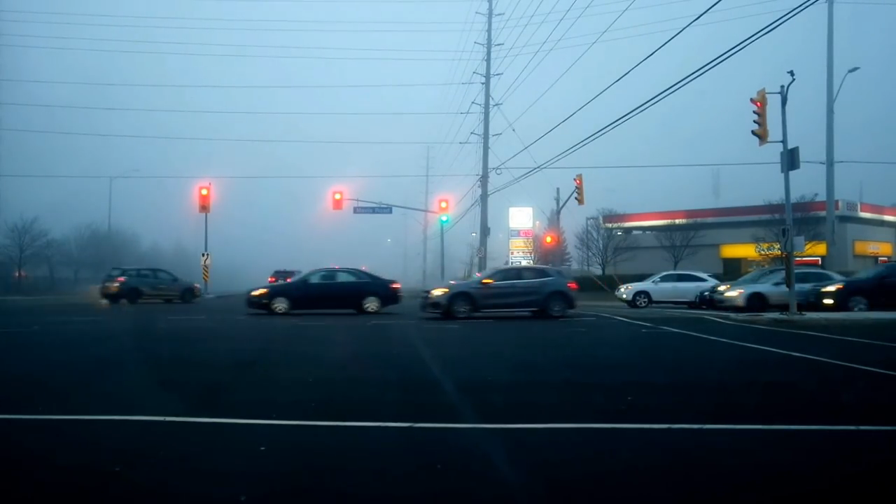car: (418, 263, 581, 322), (242, 264, 406, 315), (710, 264, 854, 313), (716, 270, 868, 315), (615, 268, 735, 309), (812, 263, 896, 318), (98, 264, 203, 306), (267, 267, 309, 296)
